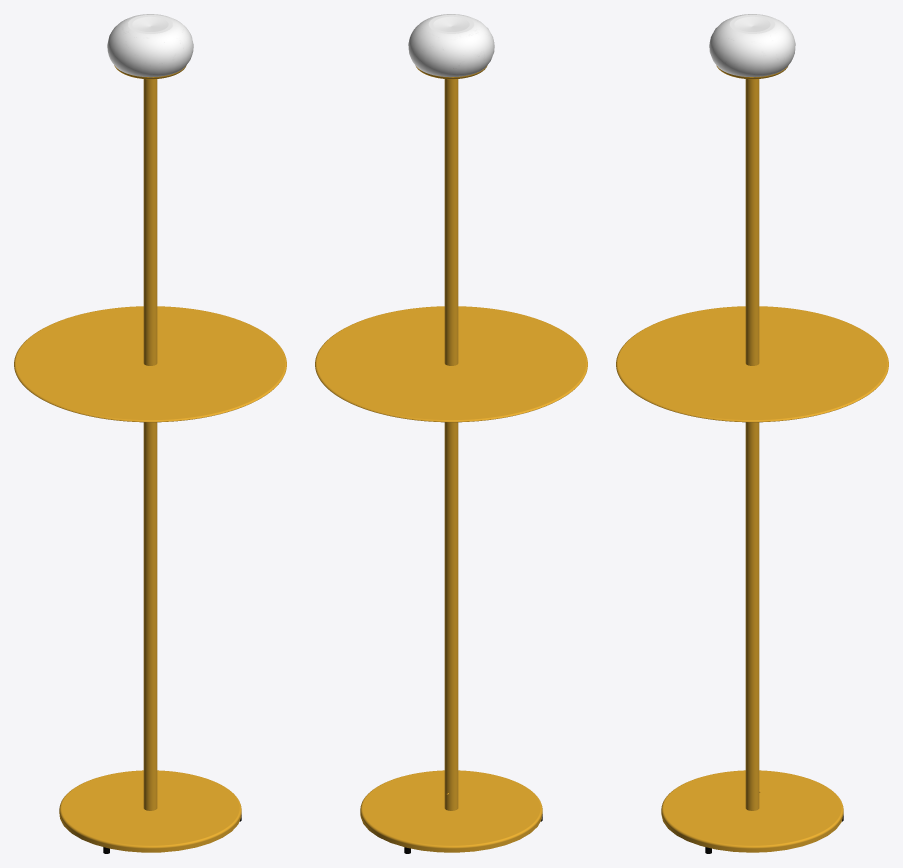
The model's file is UPPER_YELLOW02.gltf.
3 renders of one model, left to right at view 1: azimuth 30°, elevation 25°; view 2: azimuth 150°, elevation 25°; view 3: azimuth 270°, elevation 25°, orthographic.
Visible parts, largest first — view 1: /Users/seba/Desktop/ASSISTANT/2023-2024/S2/AGO Seoul Highlig (×4); view 2: /Users/seba/Desktop/ASSISTANT/2023-2024/S2/AGO Seoul Highlig (×4); view 3: /Users/seba/Desktop/ASSISTANT/2023-2024/S2/AGO Seoul Highlig (×4).
Part boxes in pixels (x1,y1,x2,y2): /Users/seba/Desktop/ASSISTANT/2023-2024/S2/AGO Seoul Highlig (×4): (14, 14, 286, 852); /Users/seba/Desktop/ASSISTANT/2023-2024/S2/AGO Seoul Highlig (×4): (315, 14, 587, 852); /Users/seba/Desktop/ASSISTANT/2023-2024/S2/AGO Seoul Highlig (×4): (616, 14, 888, 852).
Size of the model in its own units: 0.5991 by 1.93 by 0.5991.
Materials: 16 (1 with a texture image).
